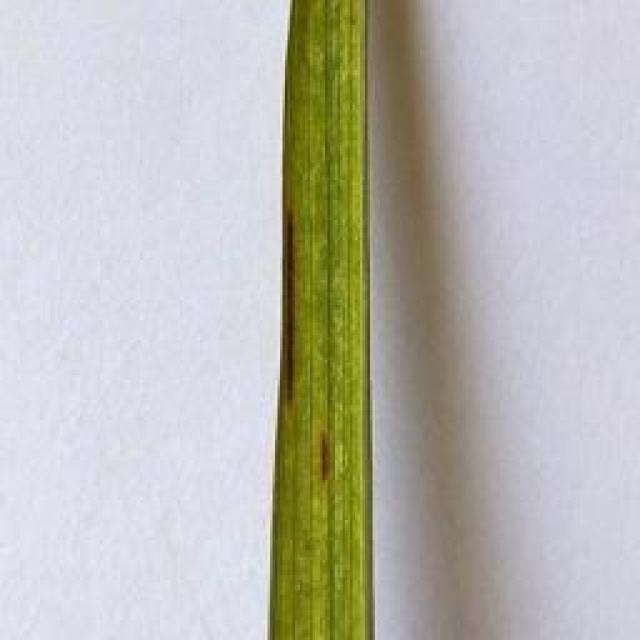Brown_Spot: (265, 193, 310, 427), (309, 421, 343, 489)
